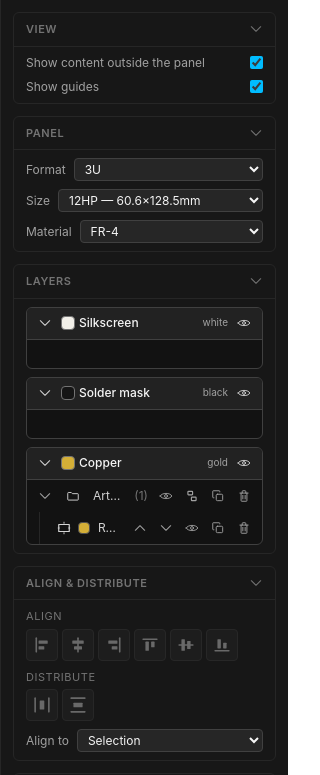
Test: Sidebar — Layers section lifecycle › preserves material and group collapse state while the outer section is closed
What coordinates should you click on to do the following:
click the button named "Collapse Artwork"
I would click on:
 (45, 496)
Its box is [33,484,57,508].
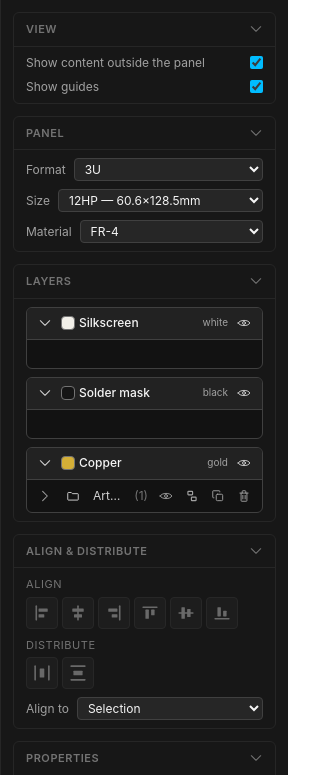
What coordinates should you click on to do the following:
click the button named "Collapse Copper"
I would click on:
 (45, 463)
Its box is [33,451,57,475].
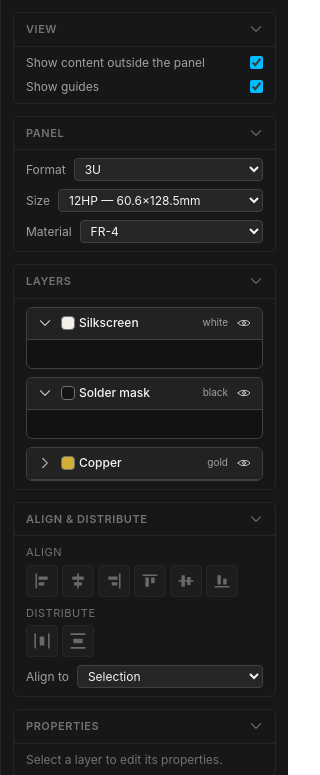
What coordinates should you click on to do the following:
click the button "Layers"
I would click on:
 (49, 281)
Its box is [14,265,275,298].
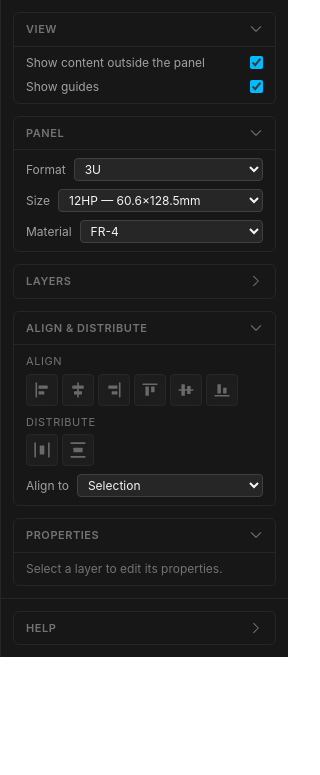
What coordinates should you click on to do the following:
click the button "Layers"
I would click on:
 (49, 281)
Its box is [14,265,275,298].
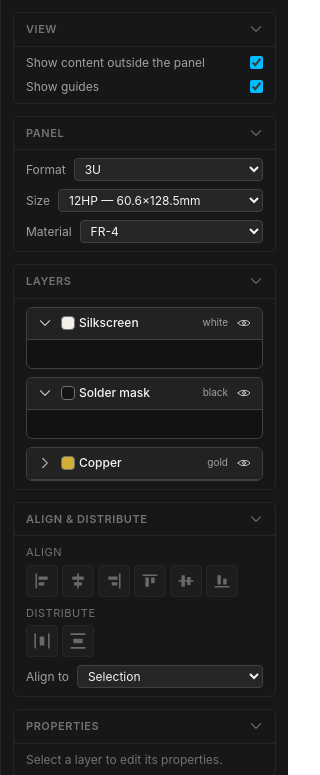
Check: the button named "Expand Copper" is shown
What coordinates should you click on to do the following:
click the button named "Expand Copper"
I would click on:
 (45, 463)
Its box is [33,451,57,475].
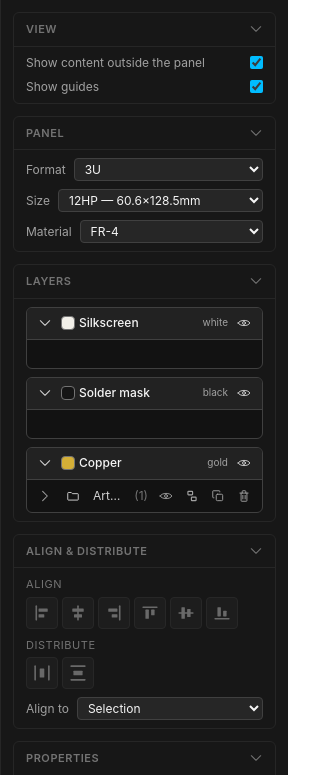
Check: the button named "Expand Artwork" is shown, box [33,484,57,508]
